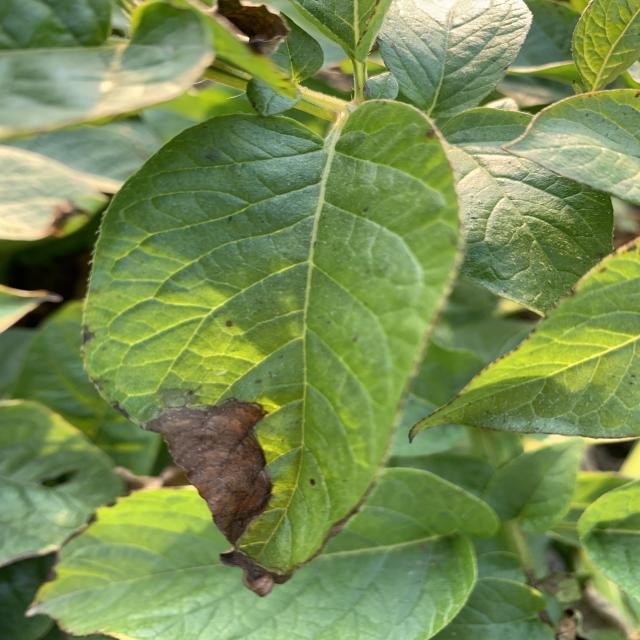lateblight: (147, 399, 290, 596)
